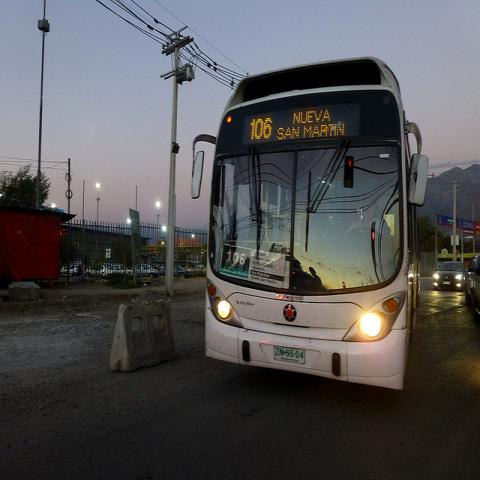bus: (188, 55, 430, 388)
car: (462, 249, 479, 328), (434, 261, 466, 291), (130, 264, 160, 282), (62, 261, 94, 277), (97, 262, 115, 276), (174, 263, 188, 278), (112, 265, 131, 273)
